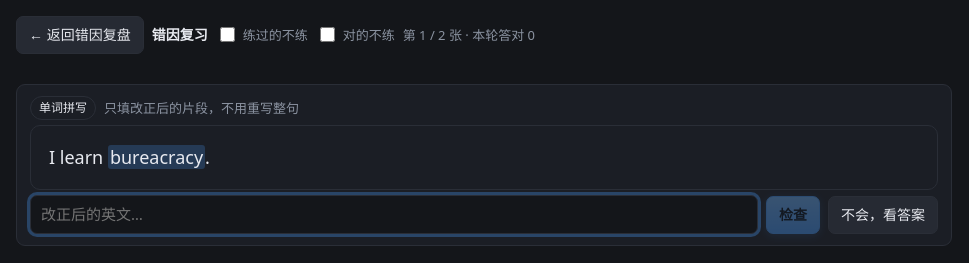
Test case: GoldenErrorReview › 对的不练：跳过上次答对的卡，保留上次答错的卡
Click the checkbox labelled "对的不练". click: (327, 35)
box: [320,27,335,42]
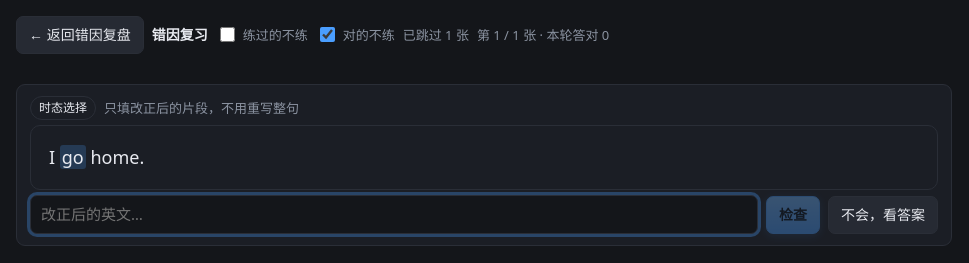
Expected: the text "第 1 / 1 张 · 本轮答对 0" is shown, [477,25,609,45]
Expected: the text "go" is shown, [60,145,86,169]
